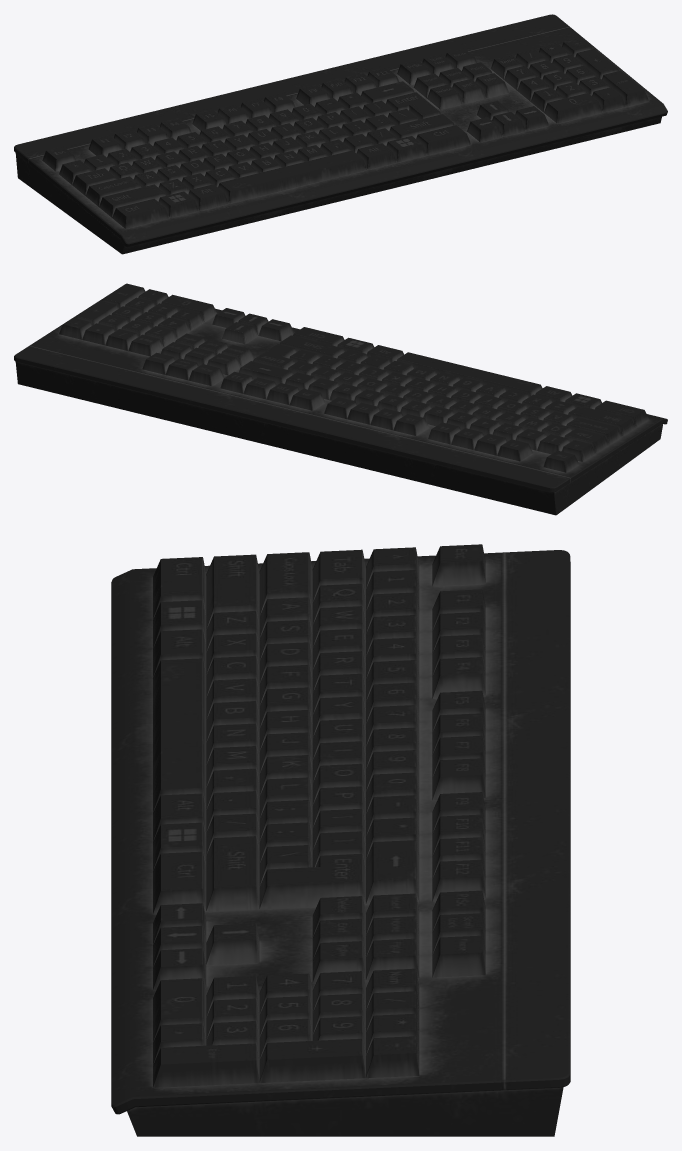
The model's file is tecladoViejo.obj.
3 views of the same model, one above another, from view 1: azimuth 30°, elevation 25°; view 2: azimuth 150°, elevation 25°; view 3: azimuth 270°, elevation 25° (orthographic). The views are drawn at different scales.
Parts seen in each view (by area): view 1: computer_keyboard_01; view 2: computer_keyboard_01; view 3: computer_keyboard_01.
Boxes of the visible parts, <box> form: computer_keyboard_01: <box>14,14,667,254</box>; computer_keyboard_01: <box>14,283,667,515</box>; computer_keyboard_01: <box>111,544,570,1136</box>.
Bounding box in the file's own units: 0.45 × 0.0304 × 0.165.
